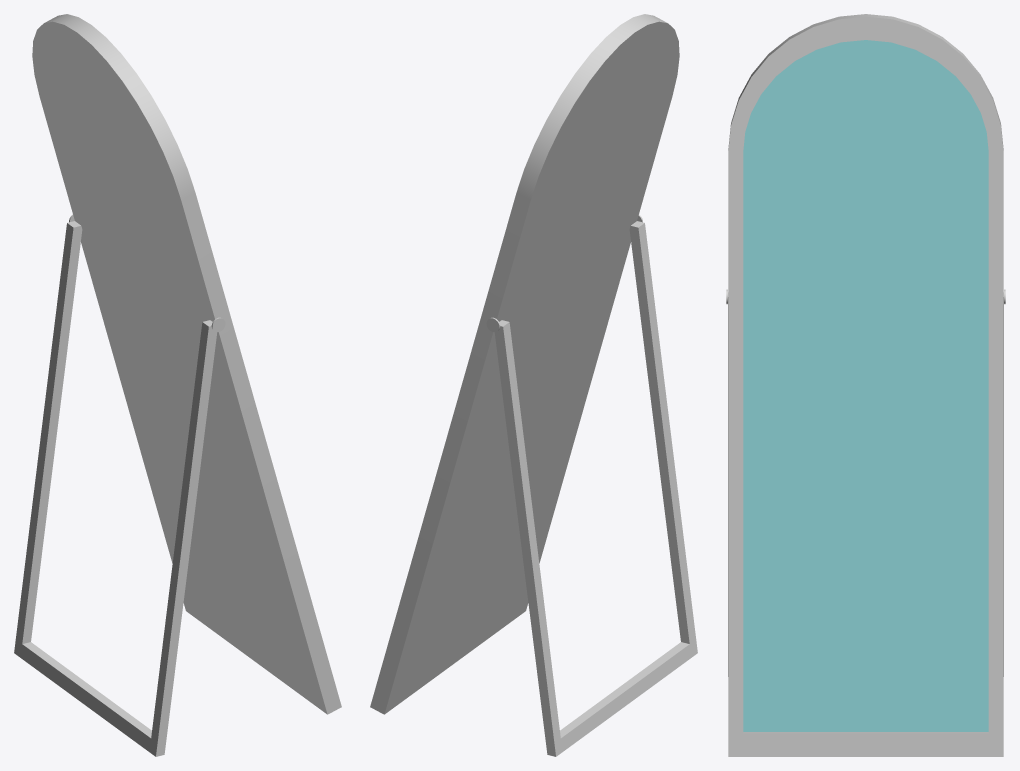
Rendered from espejoPie2.fbx.
3 renders of one model, left to right at view 1: azimuth 30°, elevation 25°; view 2: azimuth 150°, elevation 25°; view 3: azimuth 270°, elevation 25°, orthographic. The views are drawn at different scales.
Visible parts, largest first — view 1: EspejoPie2; view 2: EspejoPie2; view 3: EspejoPie2.
Part boxes in pixels (x1,y1,x2,y2): EspejoPie2: (14, 14, 341, 756); EspejoPie2: (370, 14, 697, 756); EspejoPie2: (726, 14, 1005, 756).
Bounding box in the file's own units: 700 × 2344 × 900.
